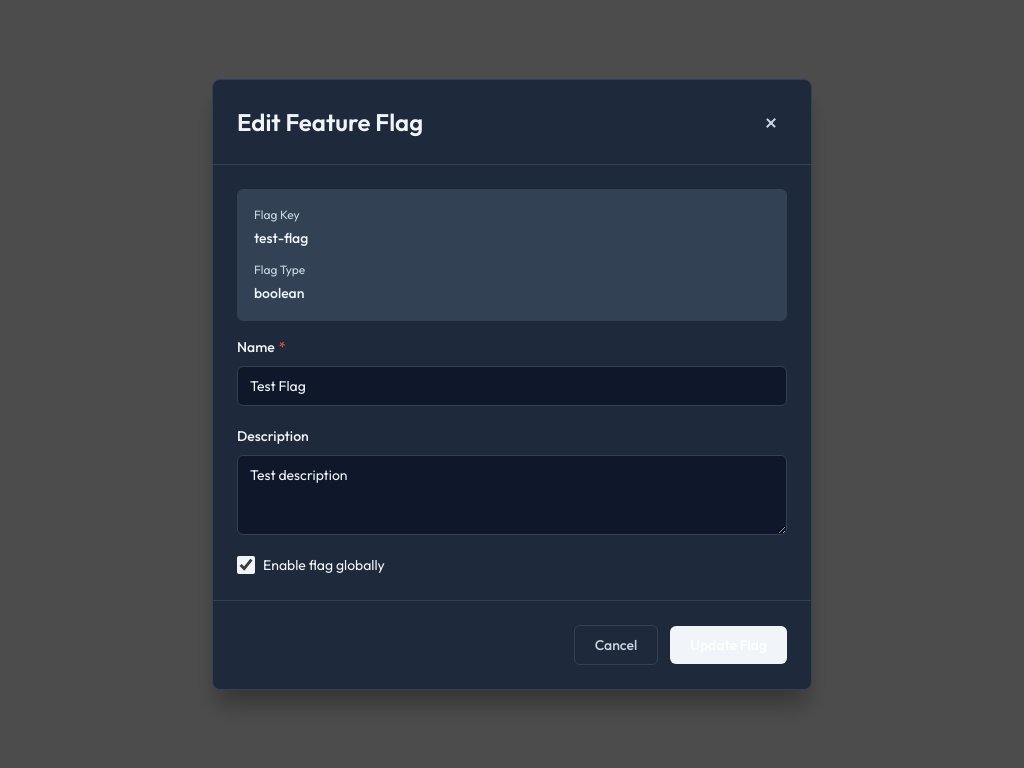
Test: EditFlagModal › should validate required name field
The width and height of the screenshot is (1024, 768).
// Clear the name field
Clear the field labelled "Name*" at (512, 386), box [237,366,787,406]
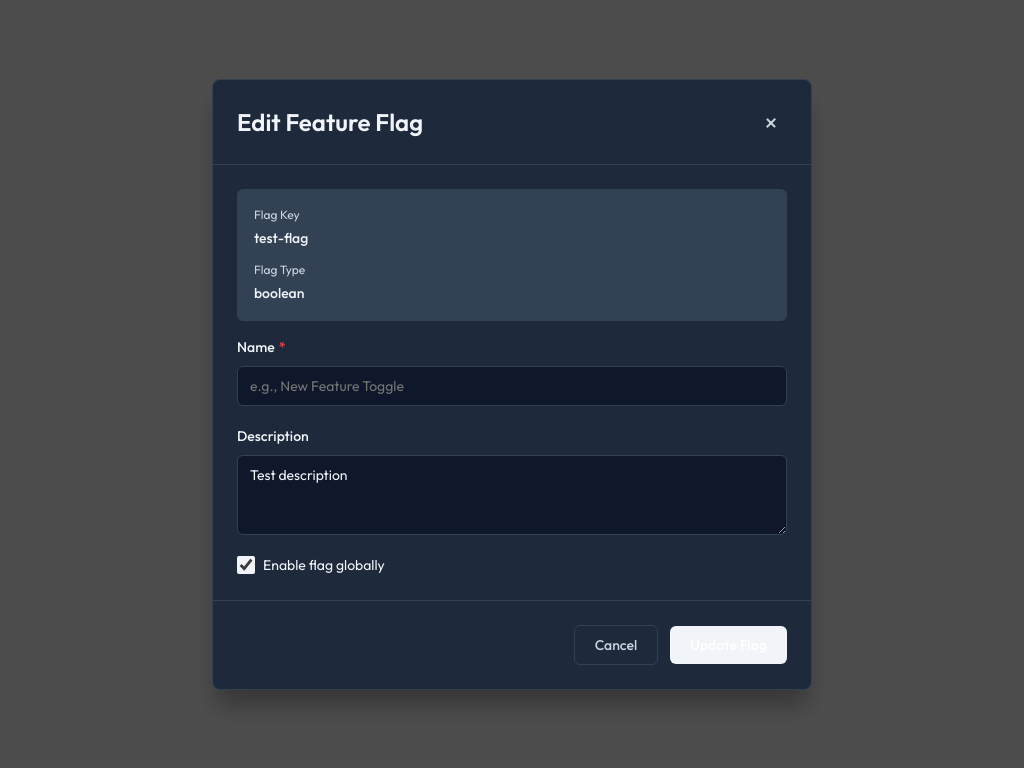
Click the button "Update Flag" at (729, 644), box [670,626,787,664]
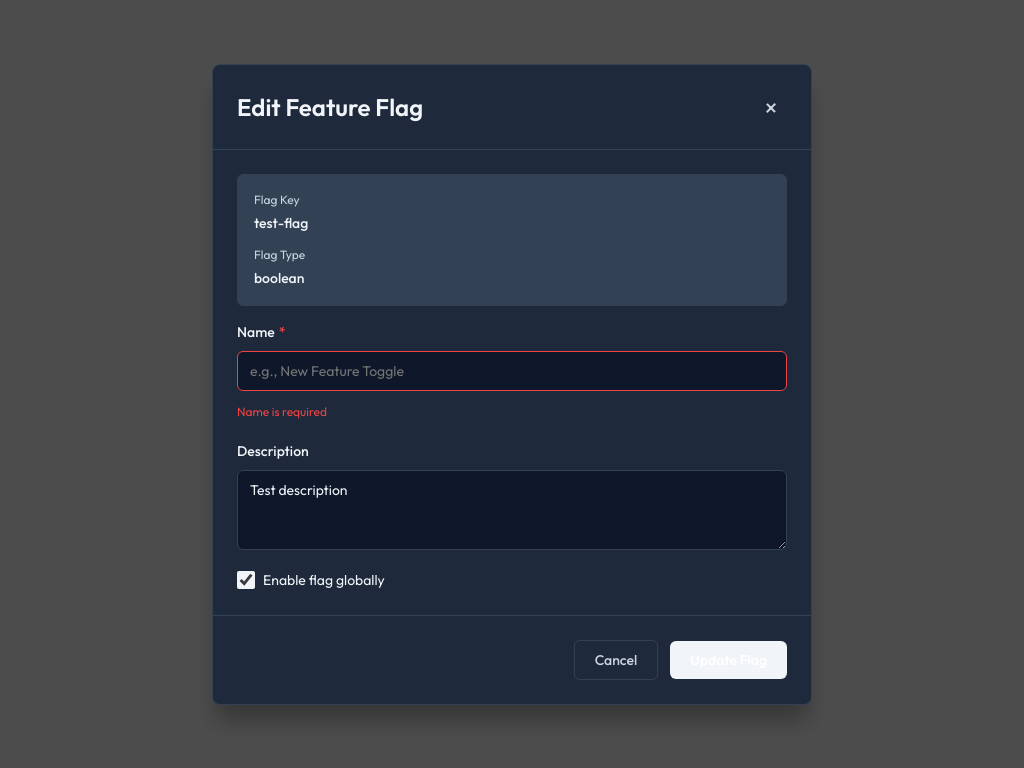
Expected: the text "Name is required" is shown, [237,404,327,418]
